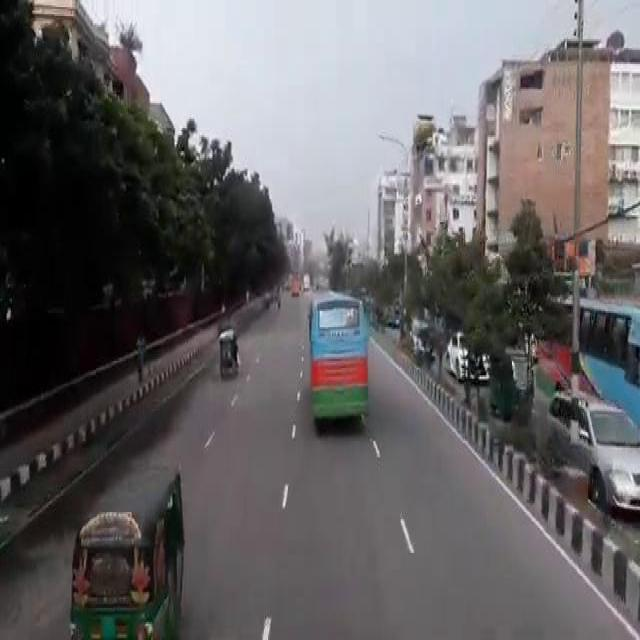17: (66, 461, 184, 638), (488, 344, 532, 420)
5: (544, 385, 638, 507), (444, 327, 488, 381)
Truck: (534, 291, 638, 413), (307, 290, 369, 421)
